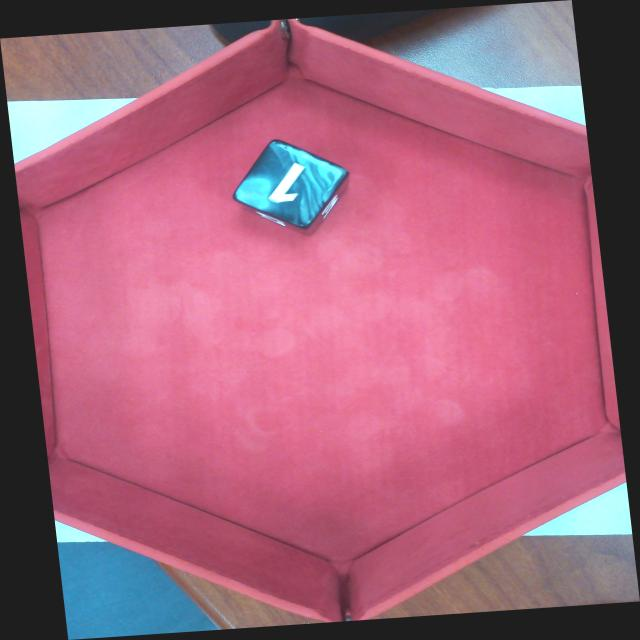dice: (237, 142, 353, 230)
